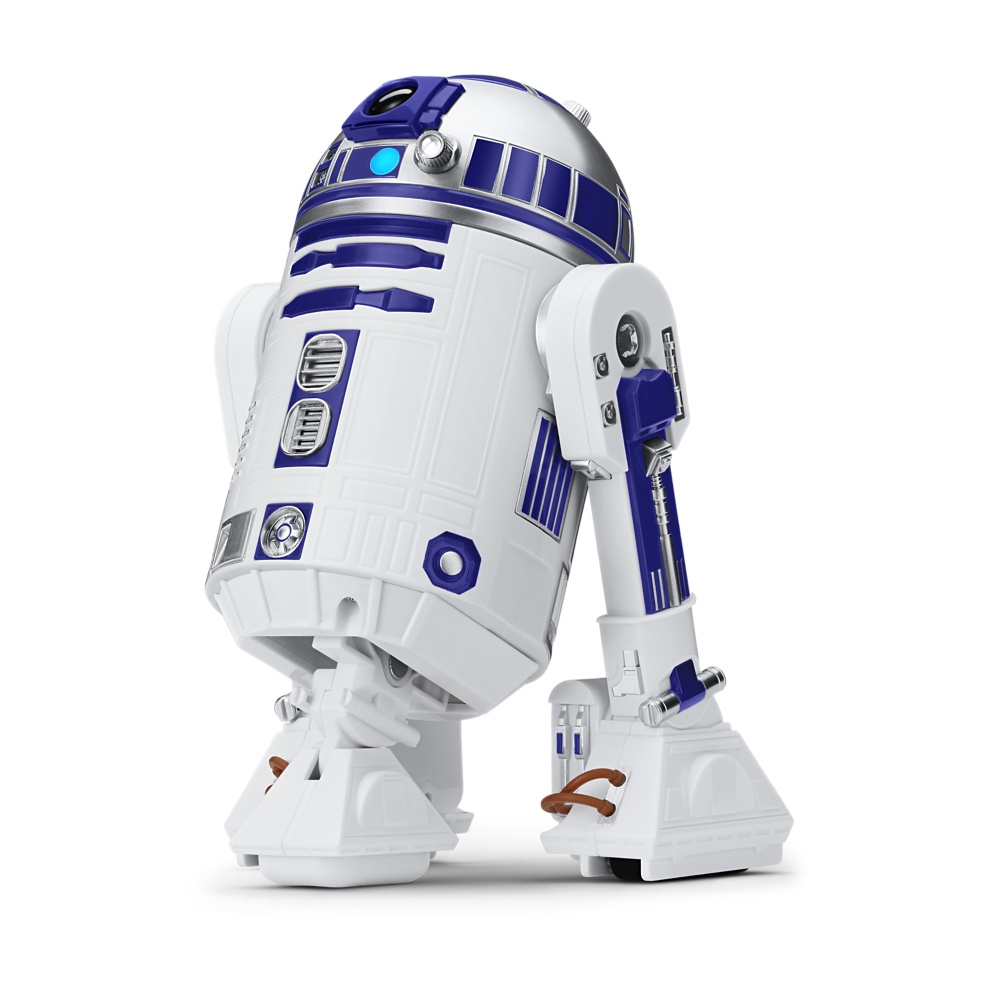r2d2: (202, 74, 795, 890)
